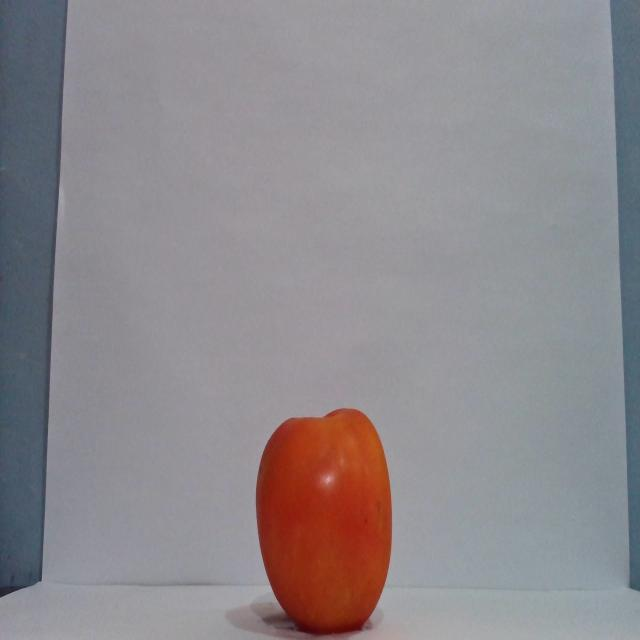Red: (254, 406, 393, 634)
